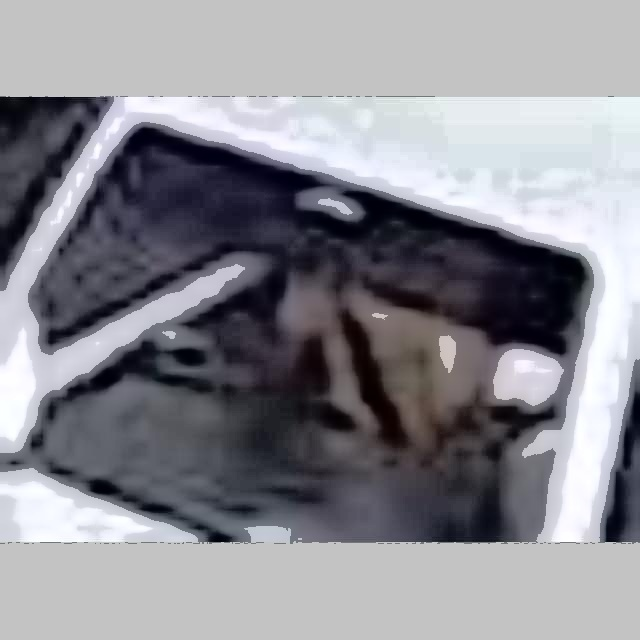pakai: (223, 153, 501, 496)
